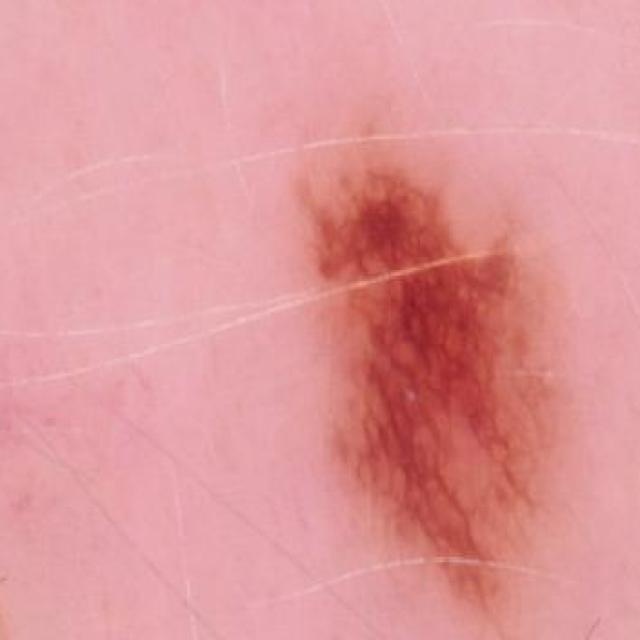NV: (295, 137, 578, 572)
